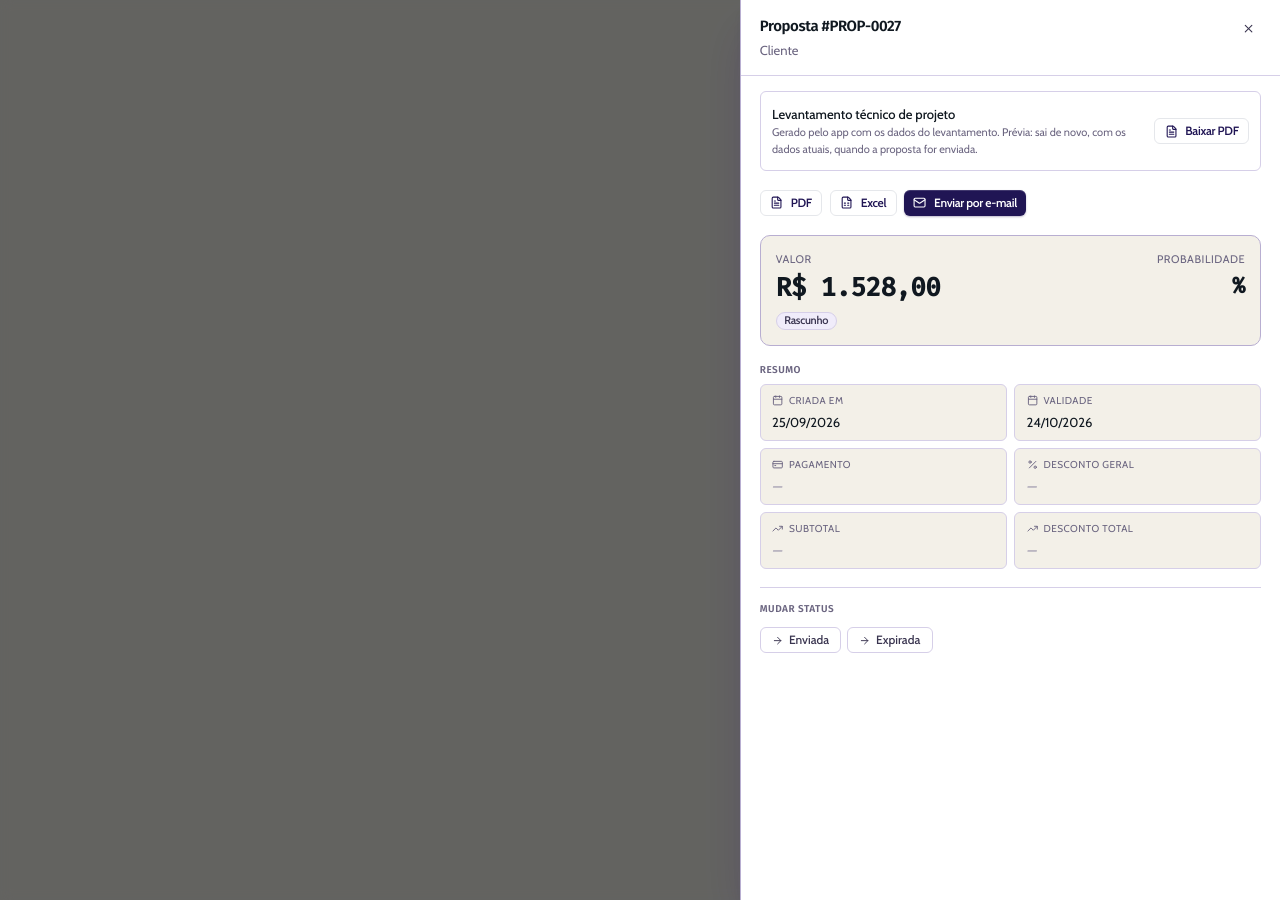
Test case: Enviar por e-mail — o painel mostra a prova de que foi › clicar de novo com o e-mail já enviado: mostra o link, não diz que enviou de novo
Click the button with test id "proposta-enviar-email". click: (965, 203)
box: [904,190,1026,216]
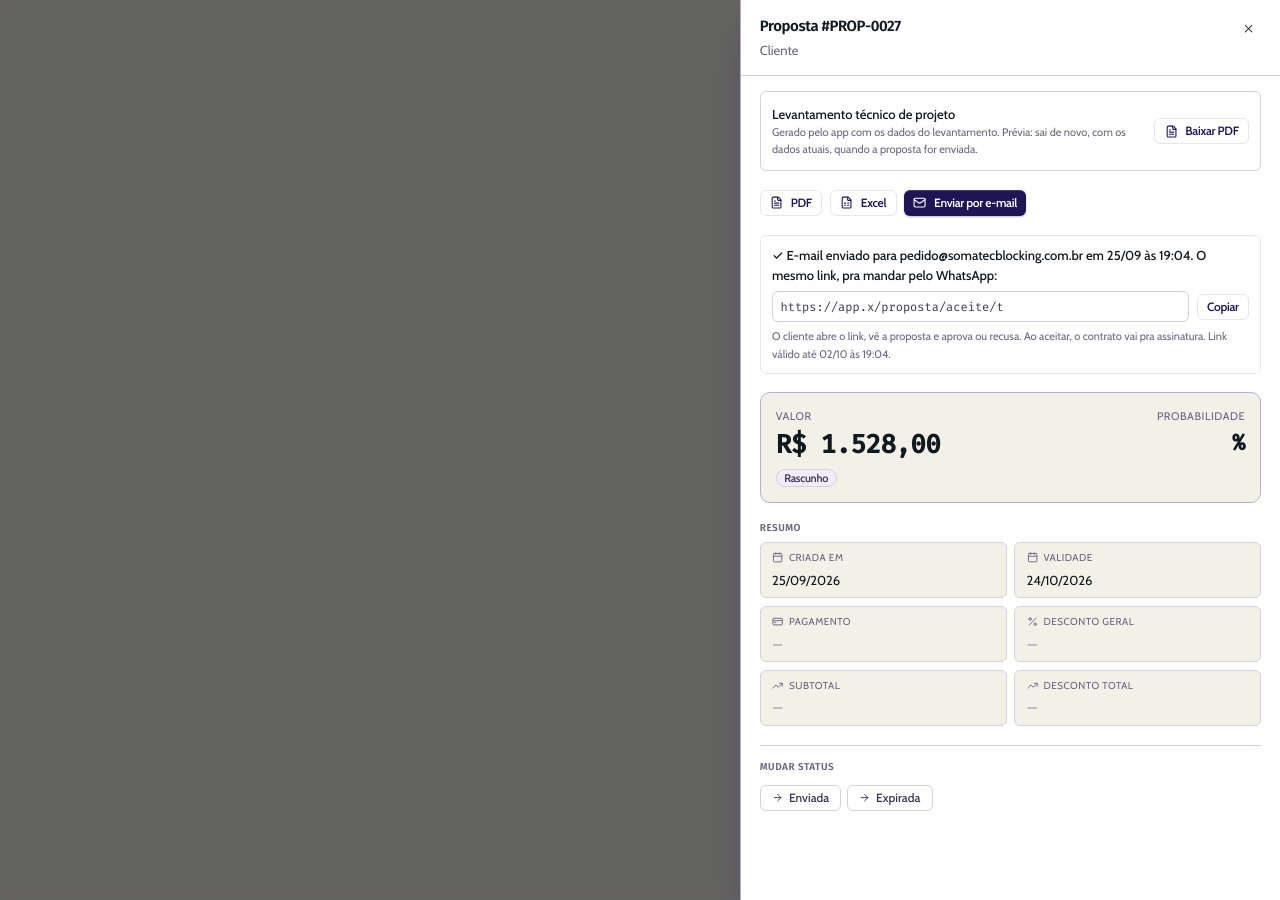
Expected: the text with test id "proposta-email-enviado" is shown, [772,245,1249,286]
